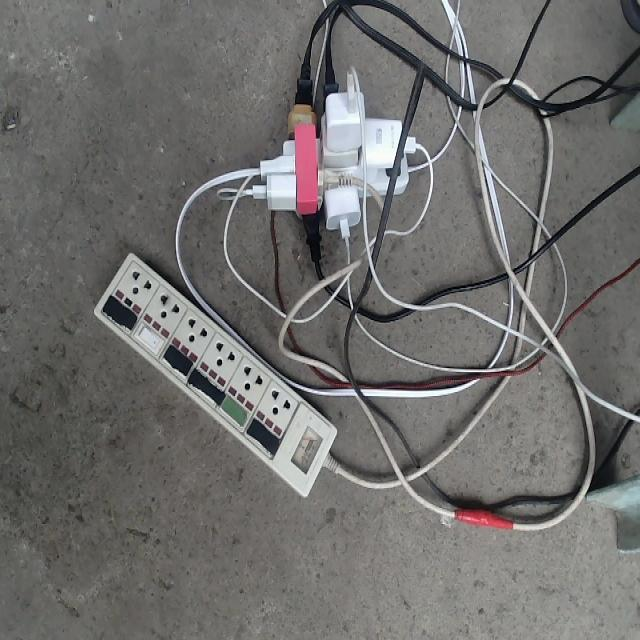-: (253, 59, 419, 240)
